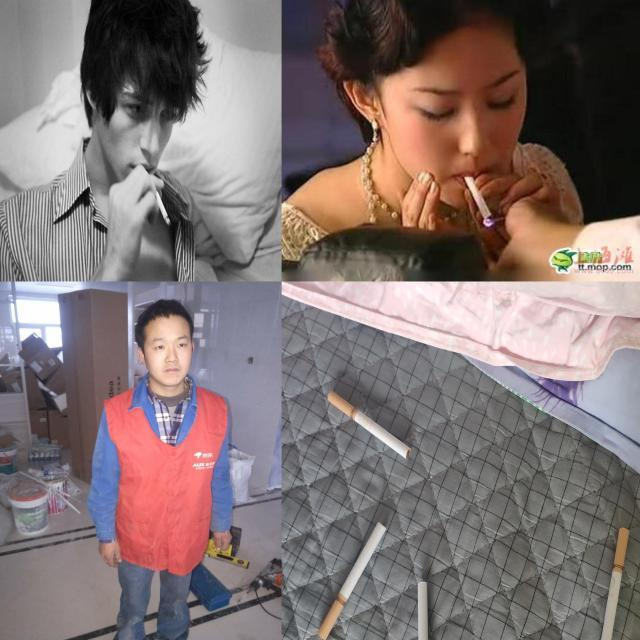smoking: (316, 522, 386, 640), (328, 390, 412, 460), (598, 527, 630, 640), (462, 174, 494, 222), (152, 182, 172, 227), (417, 582, 430, 640)
